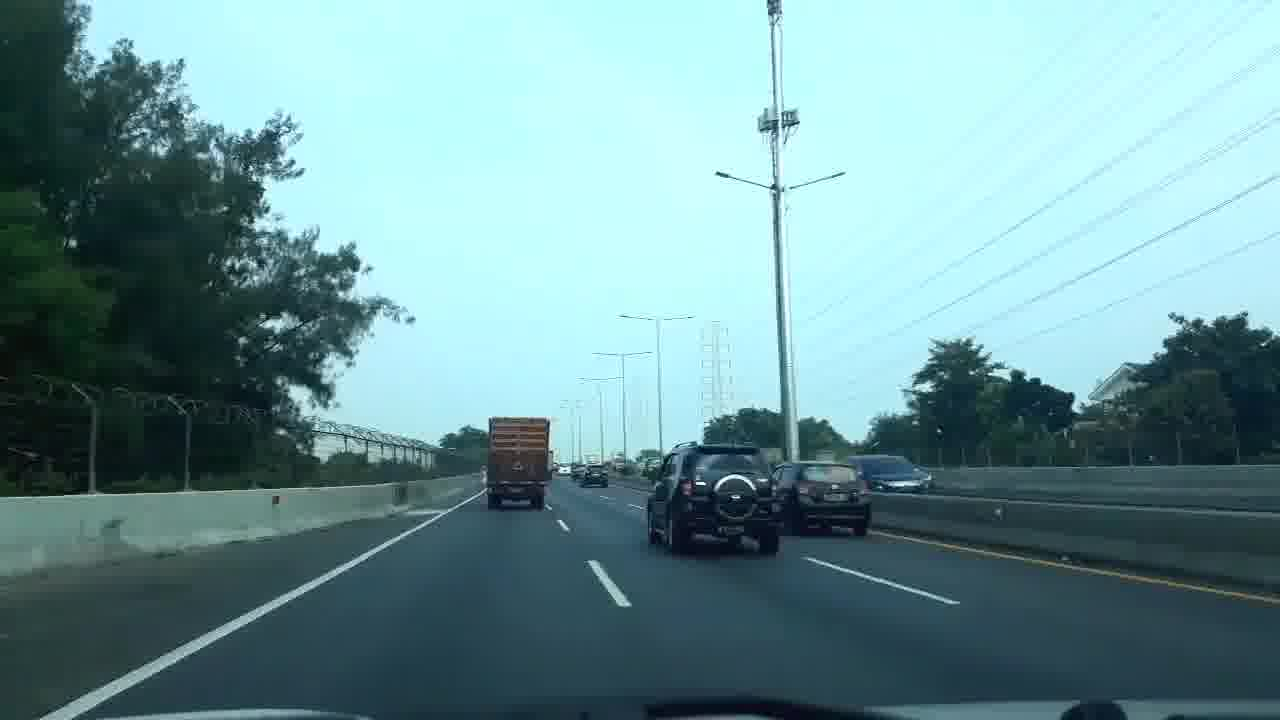plate_positive: (718, 525, 744, 536), (823, 493, 849, 502)
